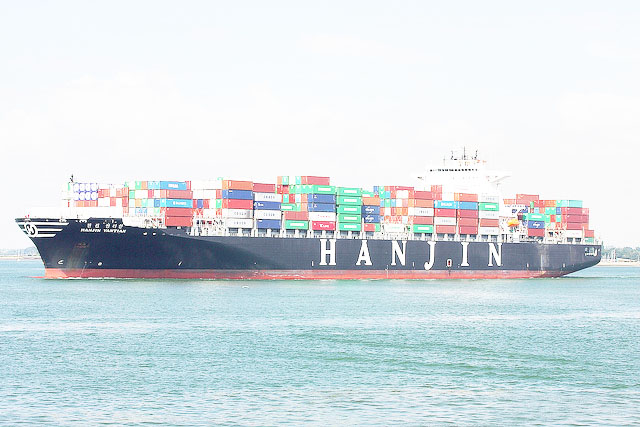container_ship: (18, 146, 607, 278)
